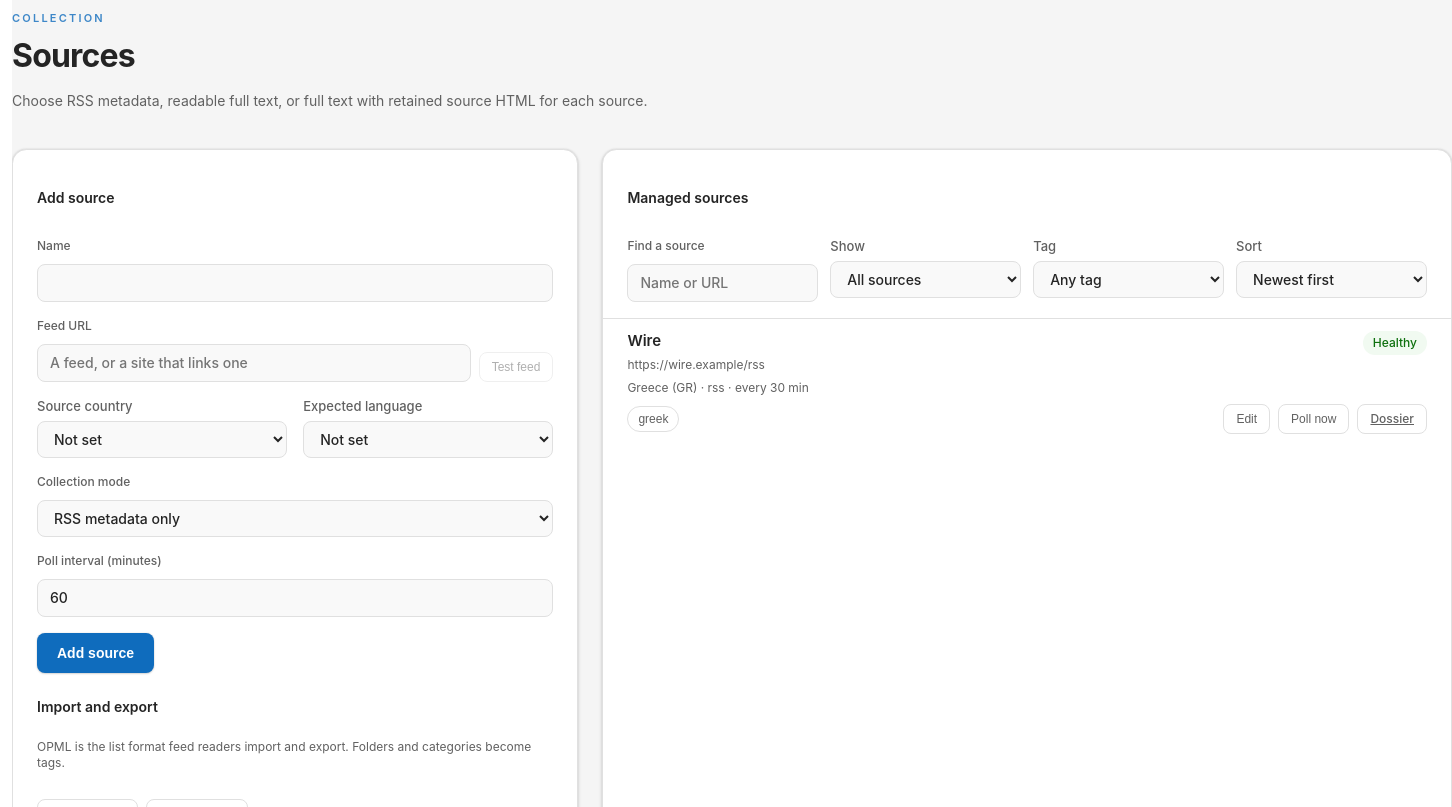
Test: filters by a tag from a source row
Click the button with aria-label "Filter by tag greek" at (653, 419), box [627, 406, 679, 432]
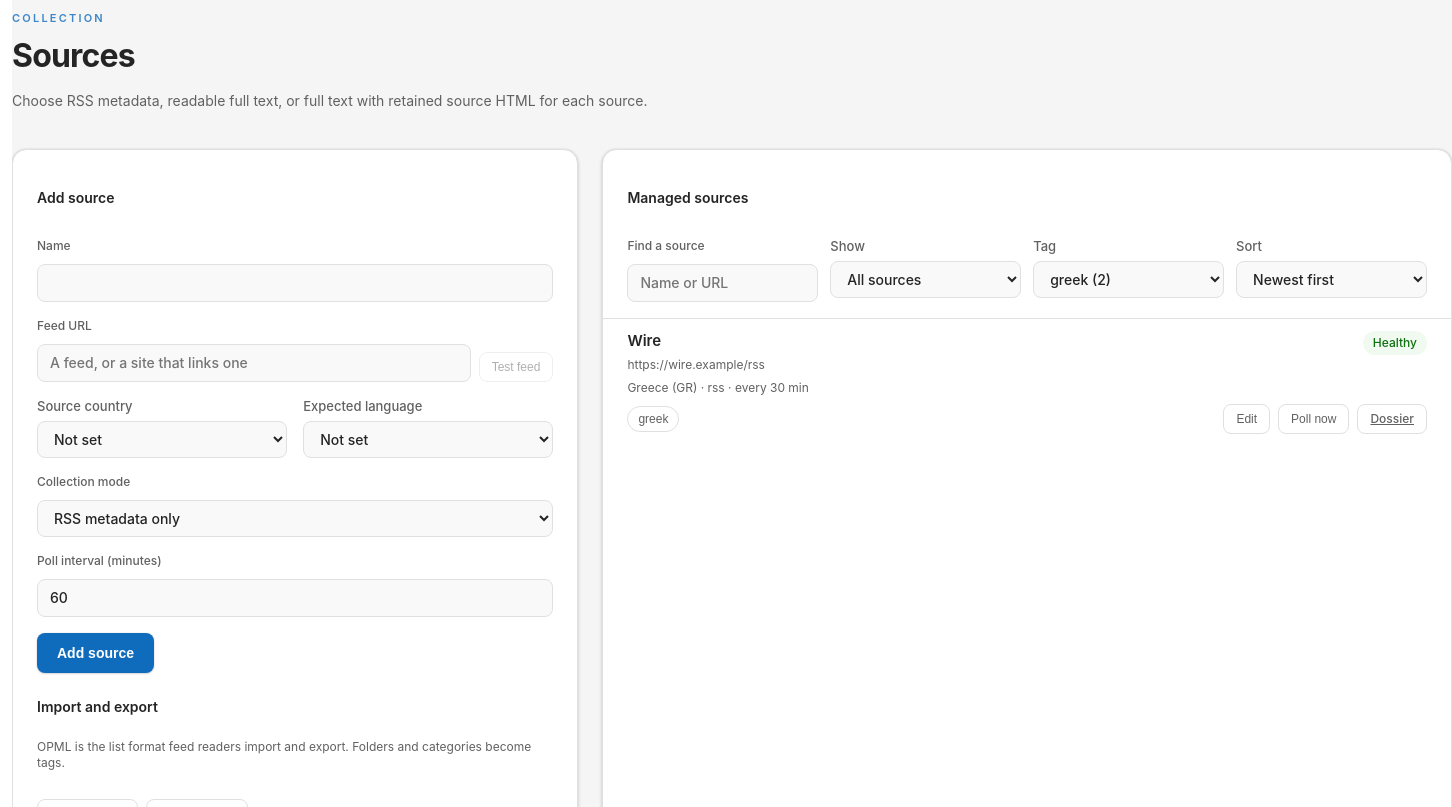
Check: the dropdown labelled "Tag" shows "greek (2)", box [1033, 261, 1224, 298]
